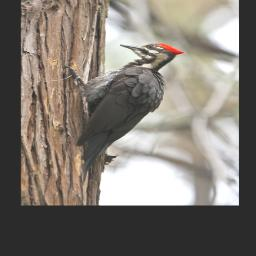Woodpecker: (64, 43, 186, 182)
